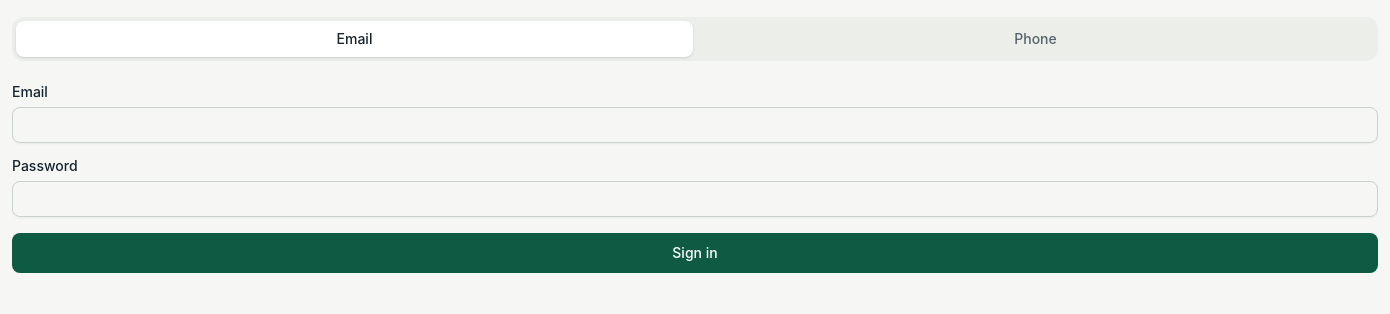
Test: SignInForm: phone OTP › shows a rate-limit message when sending codes too often
Click the tab "Phone". click: (1036, 39)
box: [697,21,1374,57]
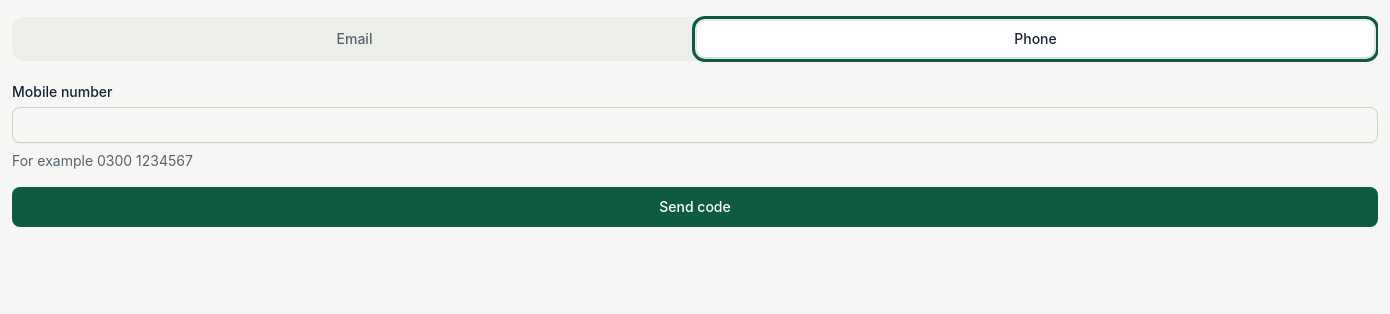
Type "03001234567" into the field labelled "Mobile number". click: (695, 125)
box: [12,107,1378,143]
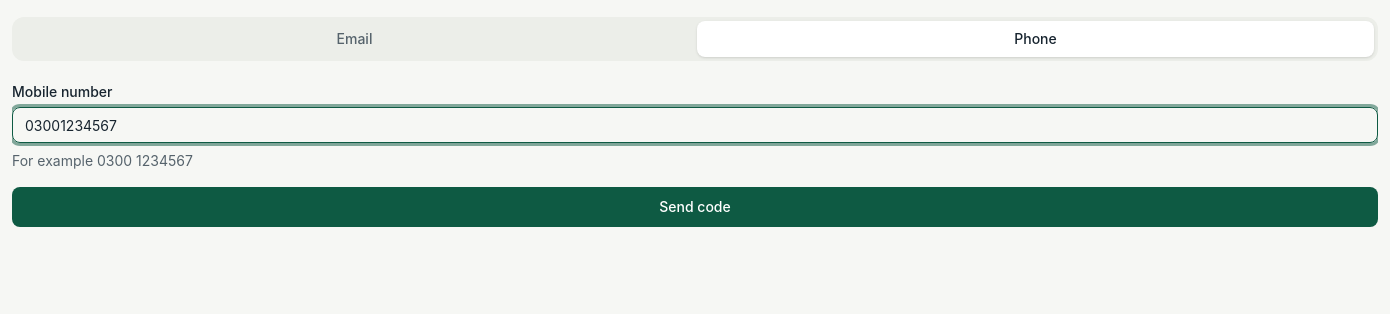
Click the button "Send code". click: (695, 207)
box: [12,187,1378,227]
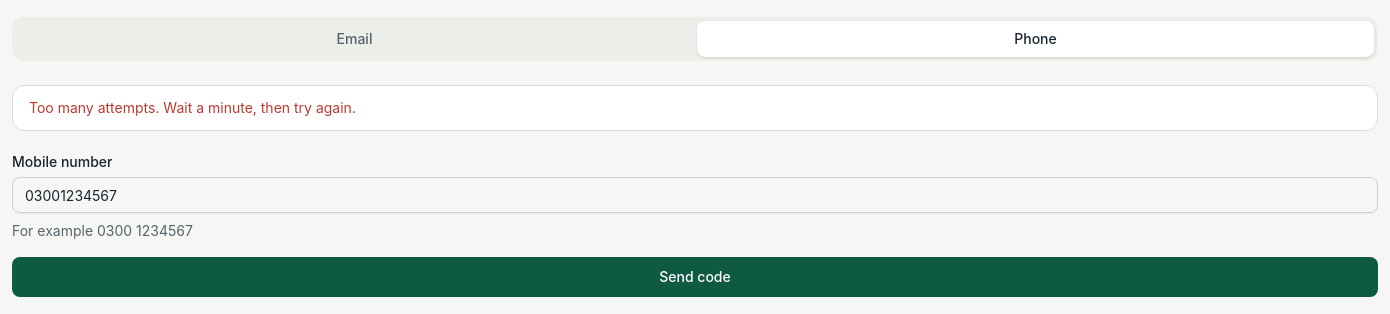
Result: the message shows "Too many attempts" at [29,99,356,116]
